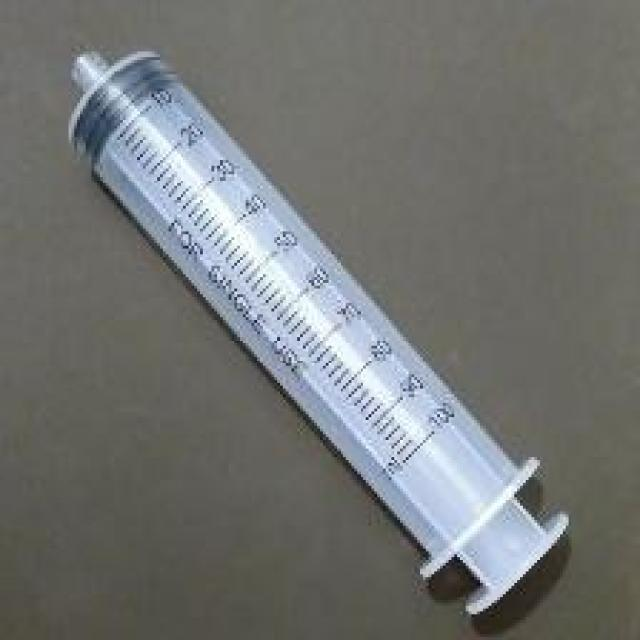syringe: (68, 32, 576, 601)
